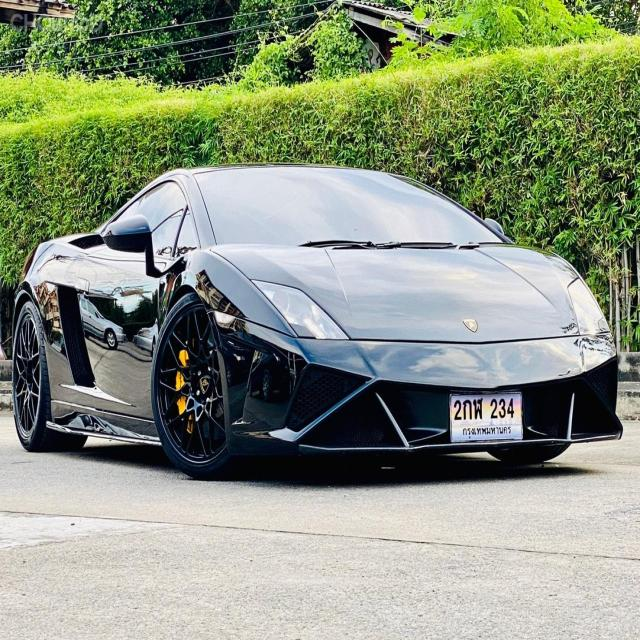license_plate: (448, 386, 527, 449)
